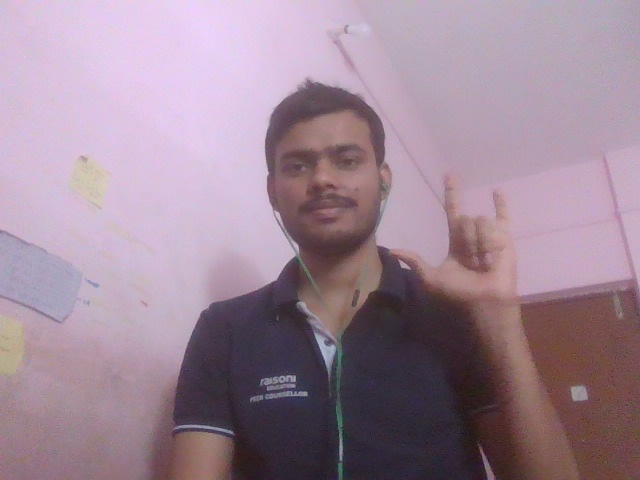ILoveYou: (388, 138, 542, 371)
